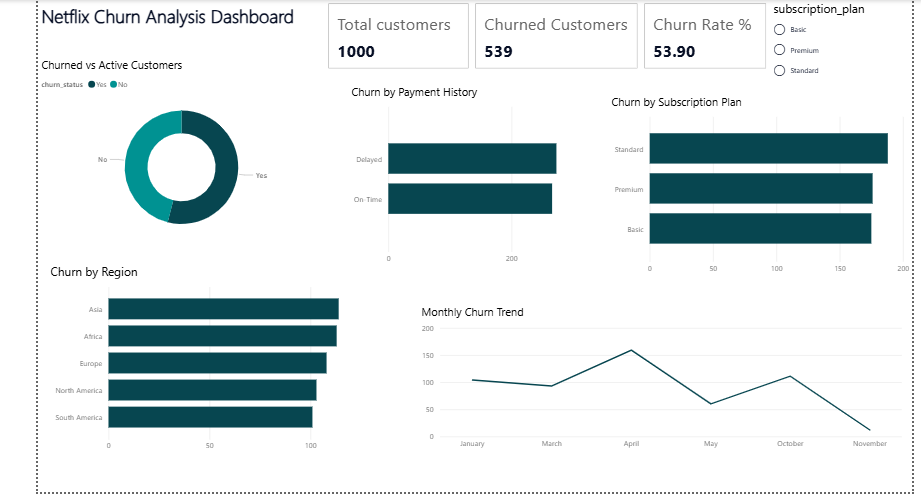

Layout of this report page (visuals, bound fields, positions):
{"tool":"powerbi","page":{"name":"Dashboard","canvas":[1280,720],"ordinal":0},"visuals":[{"type":"cardVisual","fields":{"Data":["netflix_churn_db netflix_churn.Total_customer"]},"box":[420,0,215.7,105.7],"z":0},{"type":"cardVisual","fields":{"Data":["netflix_churn_db netflix_churn.Total_churned"]},"box":[635.7,0,247.1,105.7],"z":1000},{"type":"cardVisual","fields":{"Data":["netflix_churn_db netflix_churn.churn_rate %"]},"box":[882.9,0,188.6,105.7],"z":2000},{"type":"donutChart","title":"Churned vs Active Customers","fields":{"Category":["netflix_churn_db netflix_churn.churn_status"],"Y":["netflix_churn_db netflix_churn.Total_customer"]},"box":[0,82.9,420,274.3],"z":3000},{"type":"clusteredBarChart","title":"Churn by Subscription Plan","fields":{"Y":["netflix_churn_db netflix_churn.Total_churned"],"Category":["netflix_churn_db netflix_churn.subscription_plan"]},"box":[834.3,137.1,445.7,272.9],"z":4000},{"type":"clusteredBarChart","title":"Churn by Region","fields":{"Category":["netflix_churn_db netflix_churn.region"],"Y":["netflix_churn_db netflix_churn.Total_churned"]},"box":[12.9,384.3,458.6,285.7],"z":5000},{"type":"lineChart","title":"Monthly Churn Trend","fields":{"Category":["netflix_churn_db netflix_churn.join_date.Variation.Date Hierarchy.Month"],"Y":["netflix_churn_db netflix_churn.Total_churned"]},"box":[555.7,444.3,712.9,222.9],"z":6000},{"type":"clusteredBarChart","title":"Churn by Payment History","fields":{"Category":["netflix_churn_db netflix_churn.payment_history"],"Y":["netflix_churn_db netflix_churn.Total_churned"]},"box":[453.3,123.3,343.3,273.3],"z":7000},{"type":"listSlicer","fields":{"Values":["netflix_churn_db netflix_churn.subscription_plan"]},"box":[1071.4,0,208.6,125.7],"z":8000},{"type":"textbox","box":[0,0,420,81.4],"z":9000}]}

Visuals, with their boxes on the page's 1280x720 design canvas (x1, y1, x2, y2). These are canvas units, not pixel positions in the 921x498 screenshot, which may show the page scaled, cropped or inside an application window:
cardVisual - netflix_churn_db netflix_churn.Total_customer: [x1=420, y1=0, x2=636, y2=106]
cardVisual - netflix_churn_db netflix_churn.Total_churned: [x1=636, y1=0, x2=883, y2=106]
cardVisual - netflix_churn_db netflix_churn.churn_rate %: [x1=883, y1=0, x2=1072, y2=106]
"Churned vs Active Customers" donutChart: [x1=0, y1=83, x2=420, y2=357]
"Churn by Subscription Plan" clusteredBarChart: [x1=834, y1=137, x2=1280, y2=410]
"Churn by Region" clusteredBarChart: [x1=13, y1=384, x2=472, y2=670]
"Monthly Churn Trend" lineChart: [x1=556, y1=444, x2=1269, y2=667]
"Churn by Payment History" clusteredBarChart: [x1=453, y1=123, x2=797, y2=397]
listSlicer - netflix_churn_db netflix_churn.subscription_plan: [x1=1071, y1=0, x2=1280, y2=126]
textbox: [x1=0, y1=0, x2=420, y2=81]
